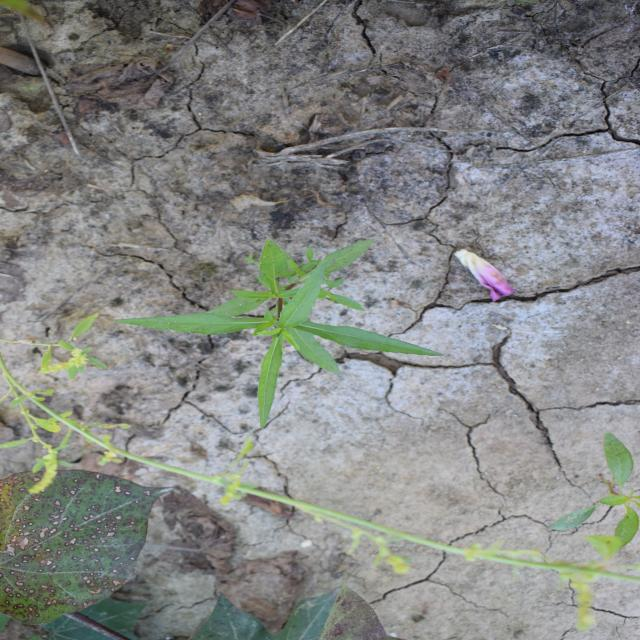Eclipta: (104, 236, 448, 432)
